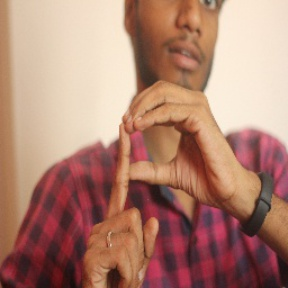P: (80, 81, 225, 280)
